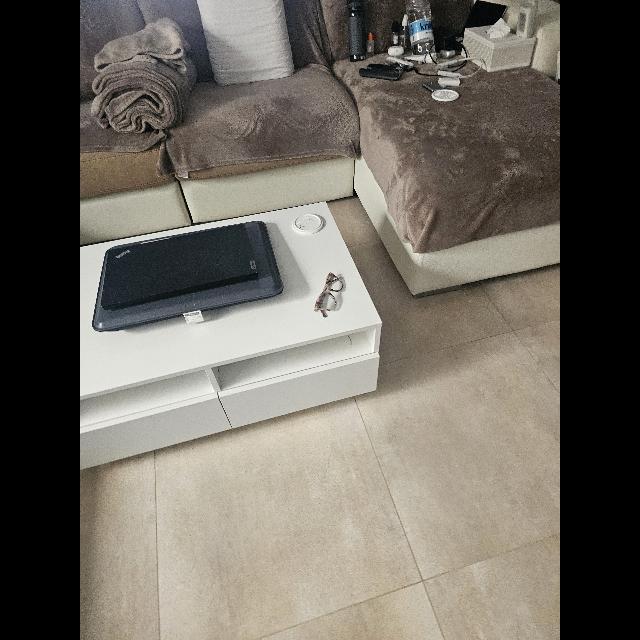glasses: (314, 272, 344, 318)
